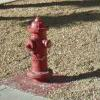Hydrant: (19, 11, 61, 92)
